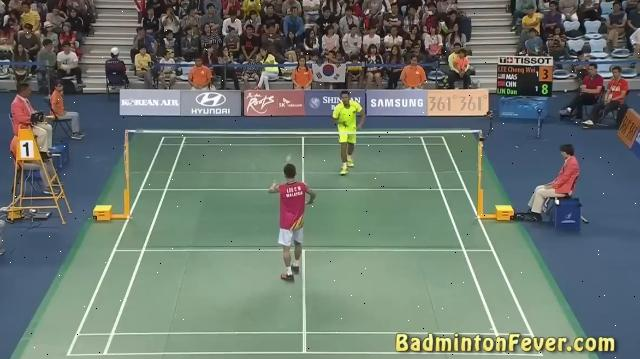Shuttlecock: (284, 152, 294, 162)
